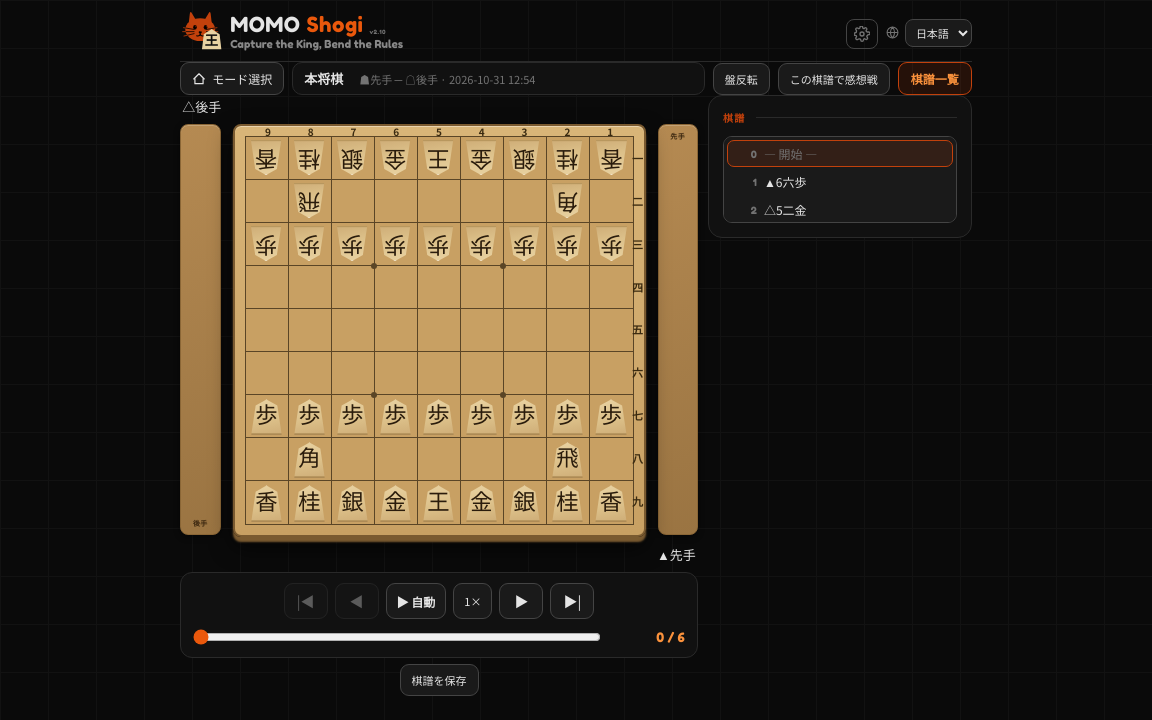
Test case: S08 再生の操作 › 1 手進むと盤が 1 手ぶん進む
What coordinates should you click on to do the following:
click the button "▶"
I would click on:
 (521, 601)
Its box is [499, 583, 543, 619].
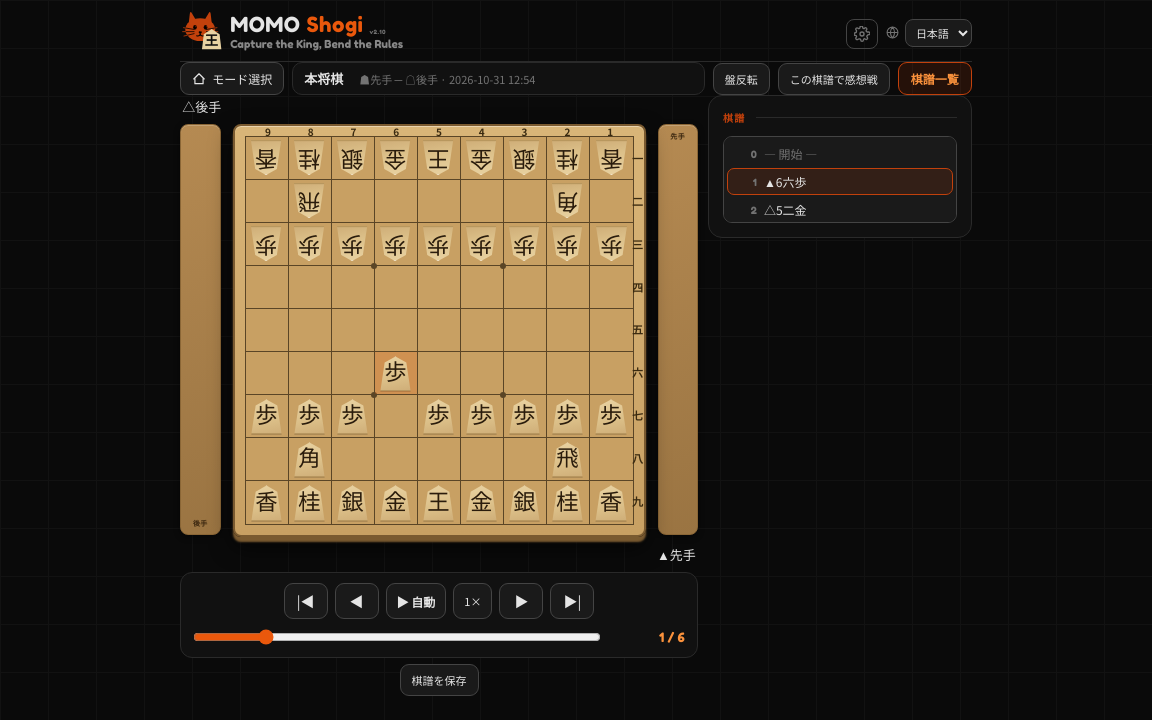
Expected: the text "1 / 6" is shown, [659, 629, 685, 645]
